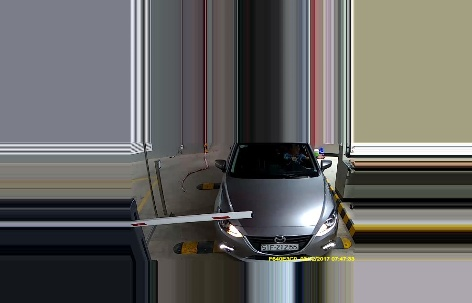plate: (258, 241, 300, 253)
